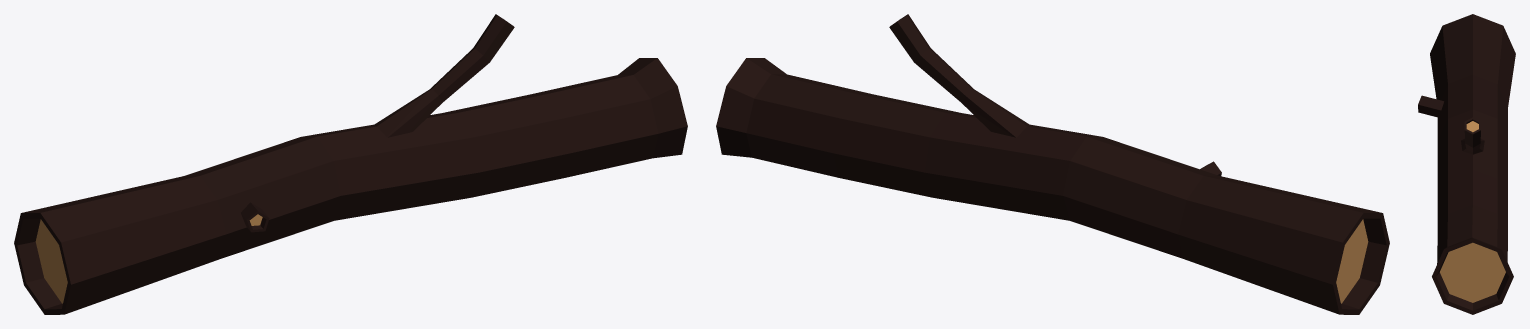
File: SM_trunk_dead_03.FBX
3 views of the same model, side by side, from view 1: azimuth 30°, elevation 25°; view 2: azimuth 150°, elevation 25°; view 3: azimuth 270°, elevation 25° (orthographic). The views are drawn at different scales.
Parts seen in each view (by area): view 1: Line033; view 2: Line033; view 3: Line033.
Boxes of the visible parts, x1=… form: Line033: x1=14, y1=14, x2=687, y2=314; Line033: x1=716, y1=14, x2=1389, y2=314; Line033: x1=1418, y1=14, x2=1515, y2=314.
Size of the model in its own units: 320 by 92.78 by 57.52.
